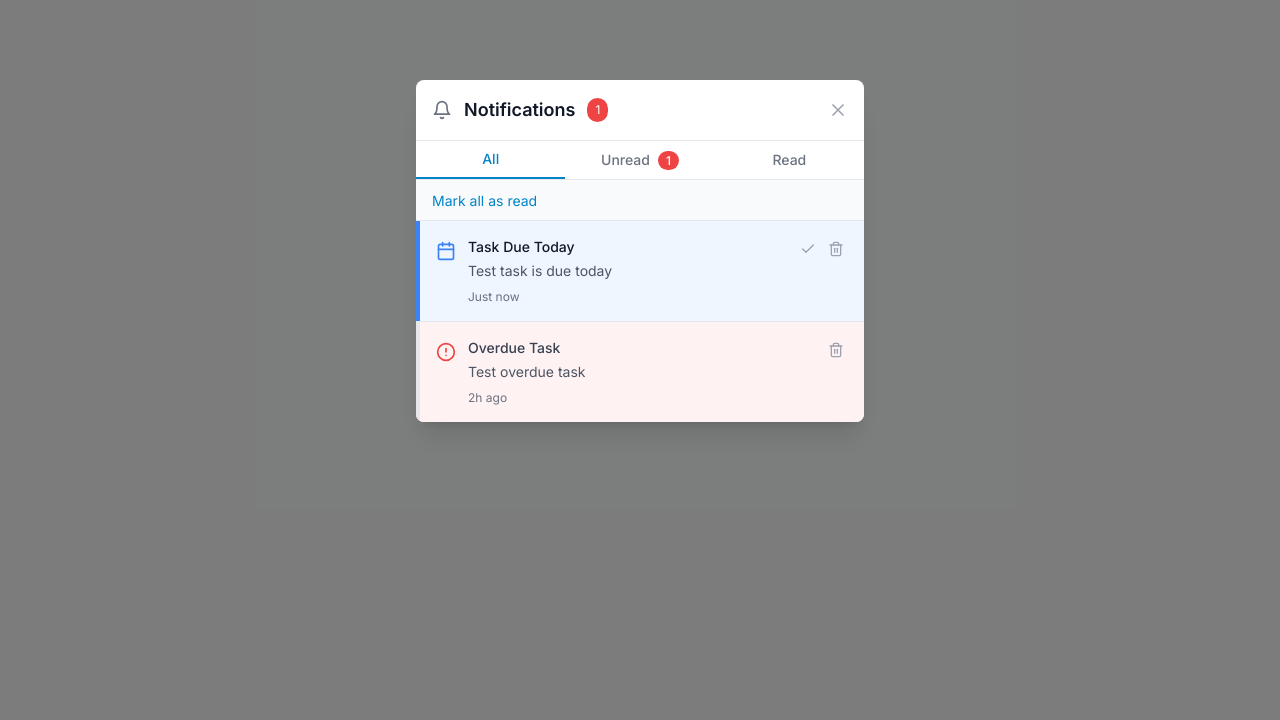
Test: NotificationPanel › filters notifications by unread when unread tab is selected
Click the button "unread1": x=640, y=160 [565, 141, 715, 179]
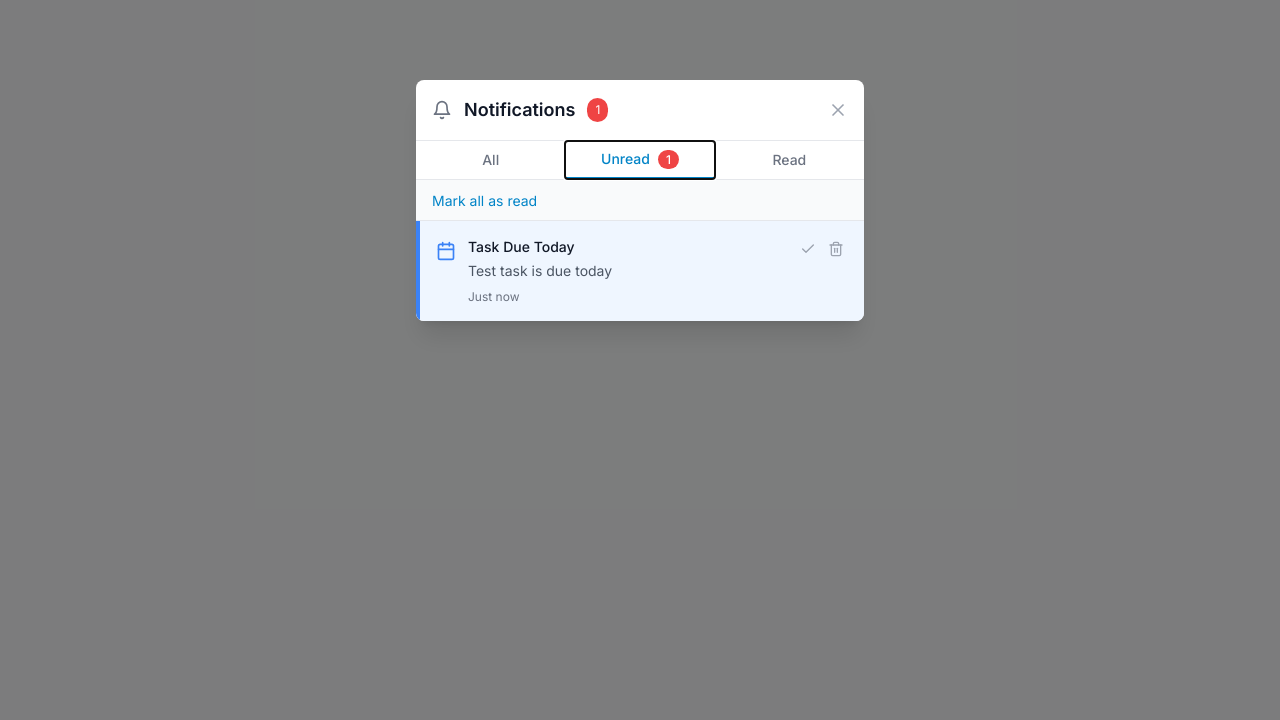
Check: the text "Task Due Today" is shown, box [468, 238, 575, 255]
Check: the text "Overdue Task" is gone
